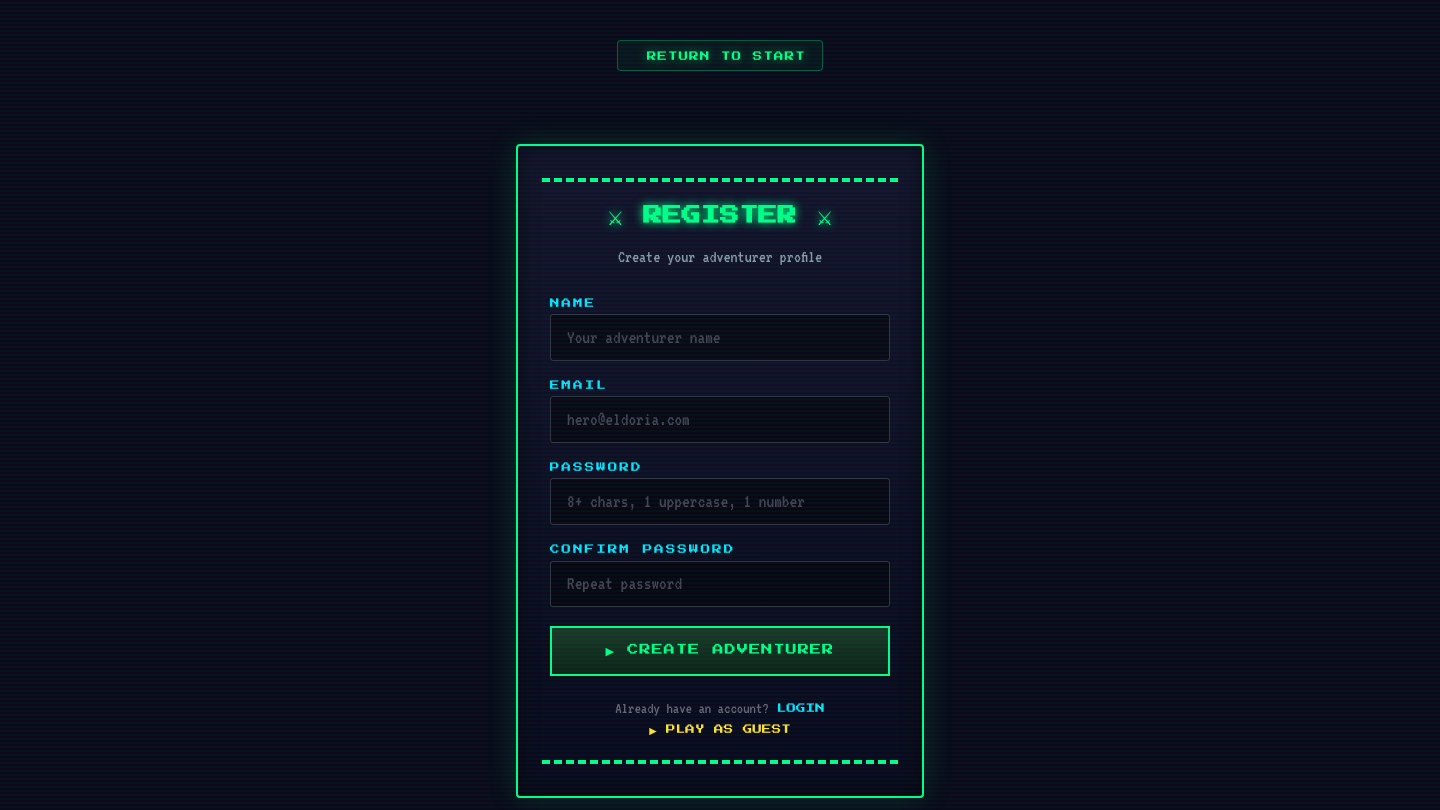
Test case: Register.vue › validates minimum password length
Type "123" into the password field with id "reg-password" at (720, 502), box [550,478,890,525]
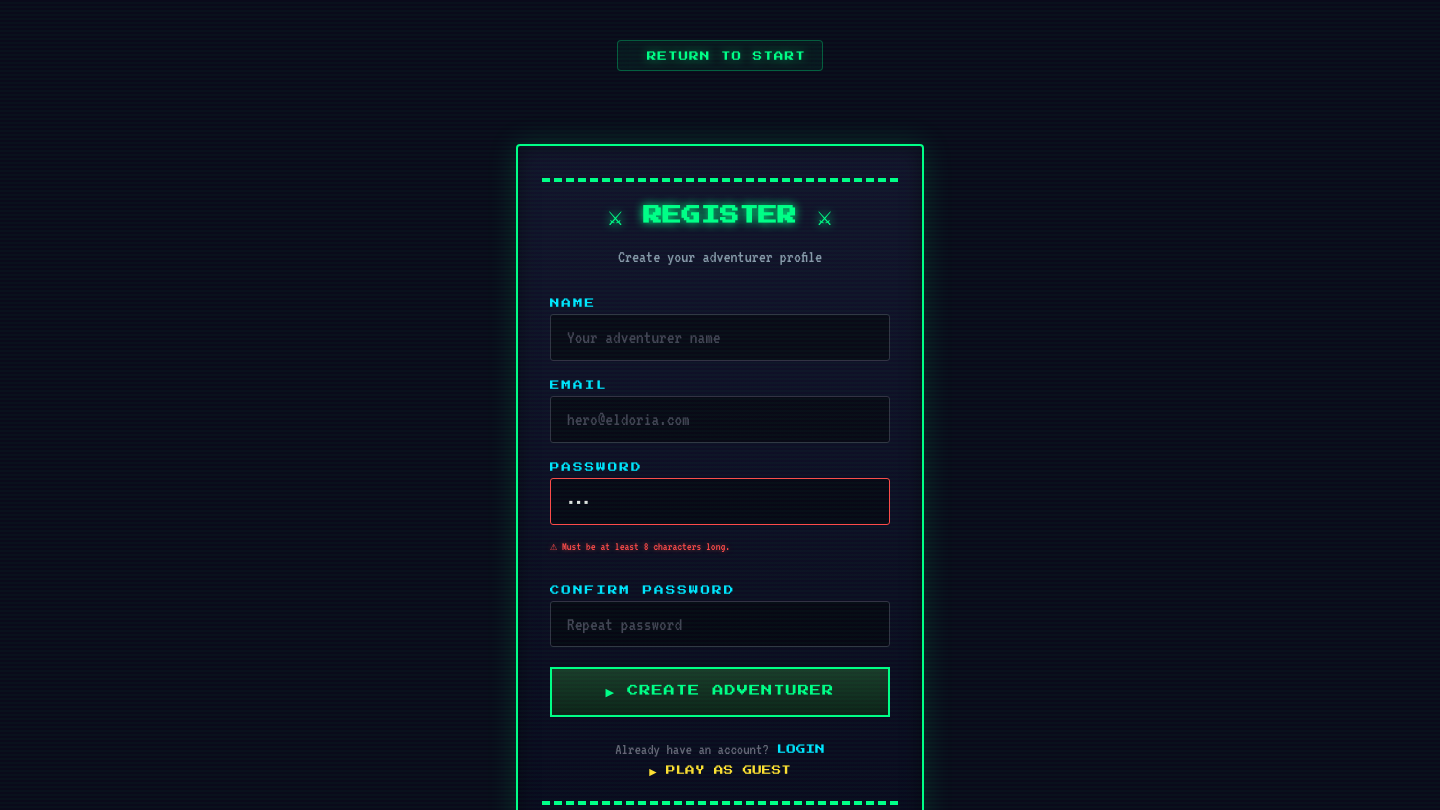
Type "123" into the password field with id "reg-confirm" at (720, 624), box [550,601,890,648]
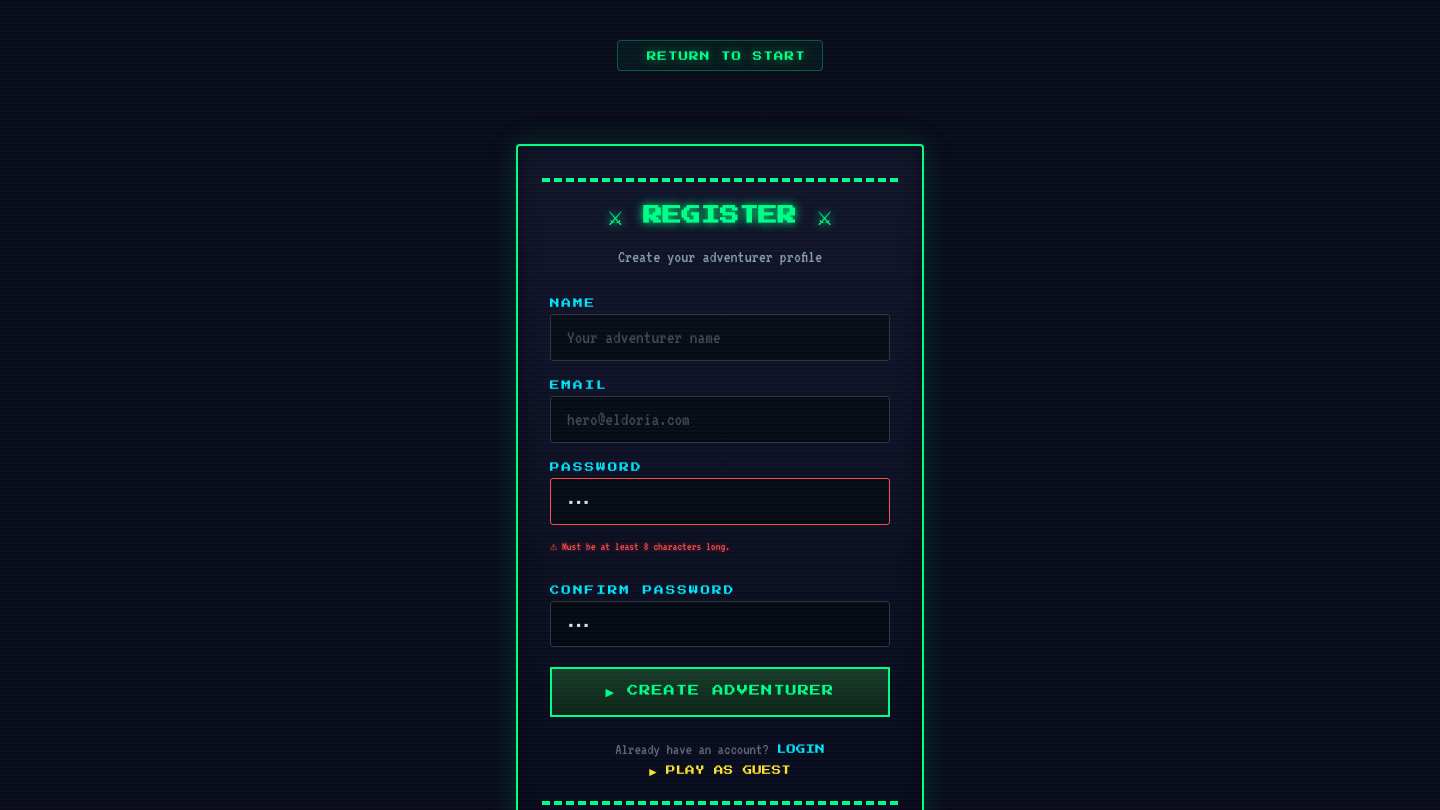
Submit the form, box [550,298,890,717]
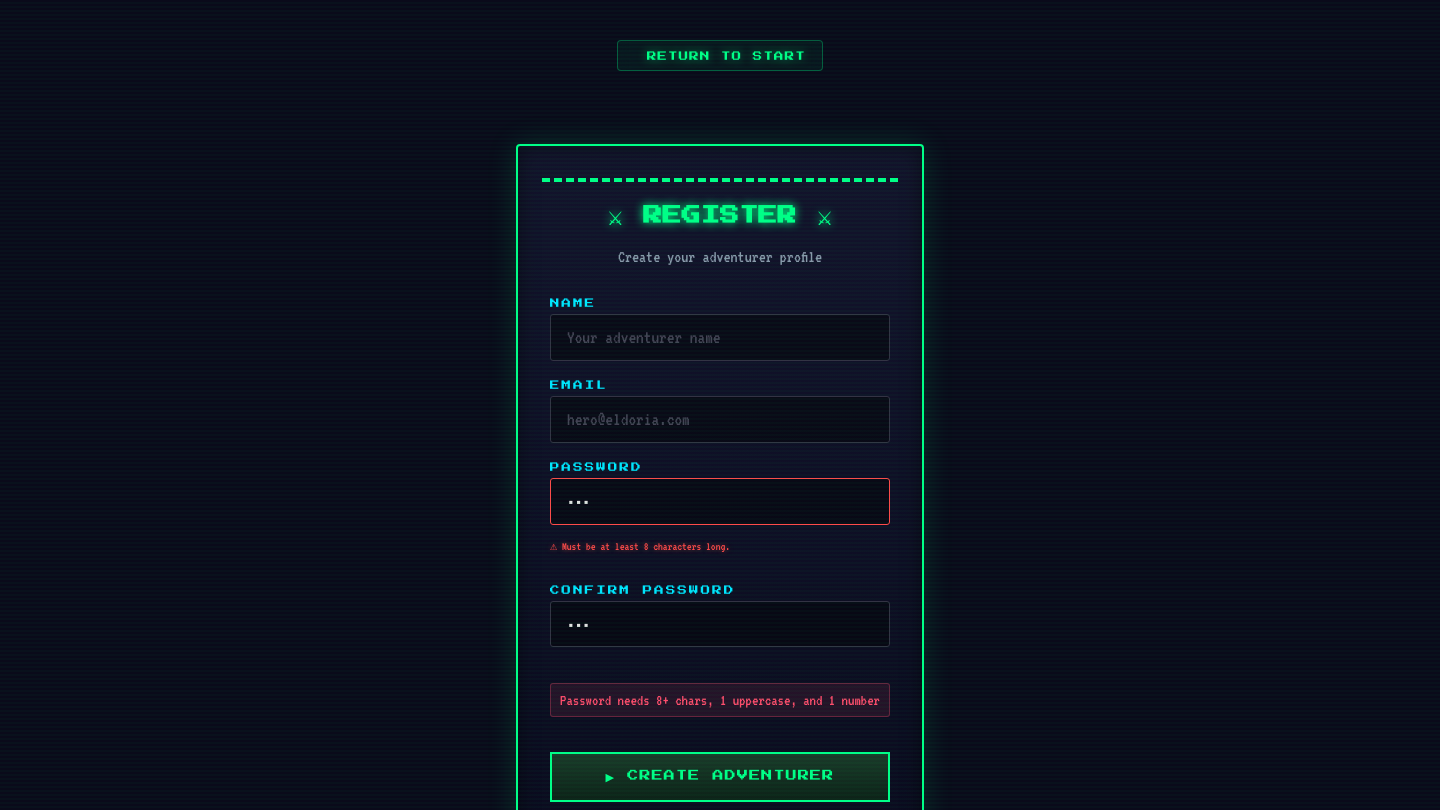
Expected: the text with class "auth-error" reads "Password needs 8+ chars, 1 uppercase, and 1 number", [560,692,880,708]
